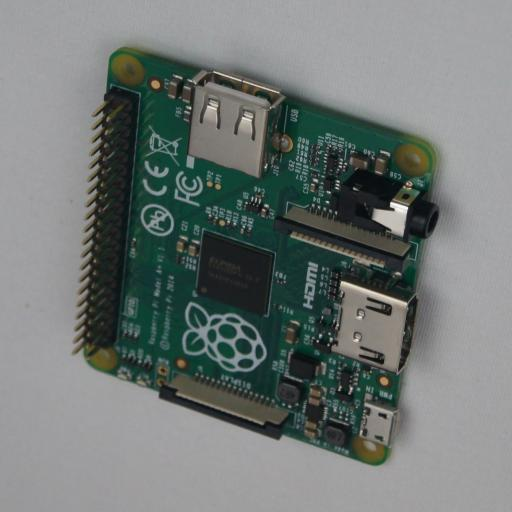Raspberry Pi A-: (74, 47, 443, 465)
